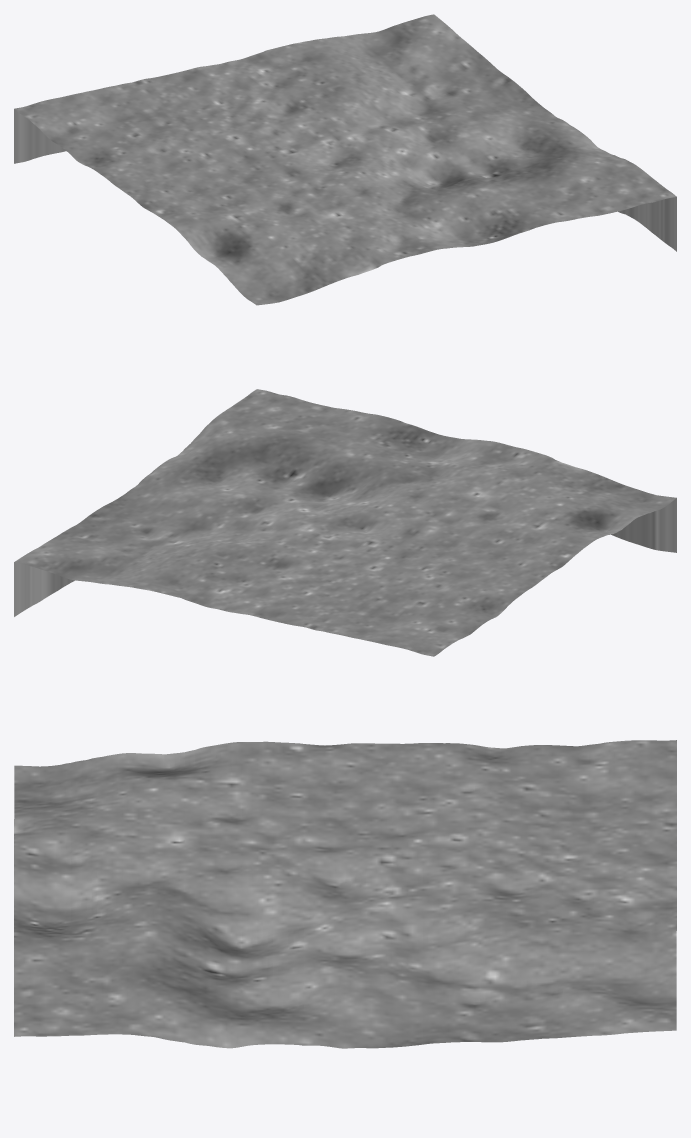
3 renders of one model, top to bottom at view 1: azimuth 30°, elevation 25°; view 2: azimuth 150°, elevation 25°; view 3: azimuth 270°, elevation 25°, orthographic. The views are drawn at different scales.
Size of the model in its own units: 638 by 112 by 639.
Materials: 1 (1 with a texture image).
